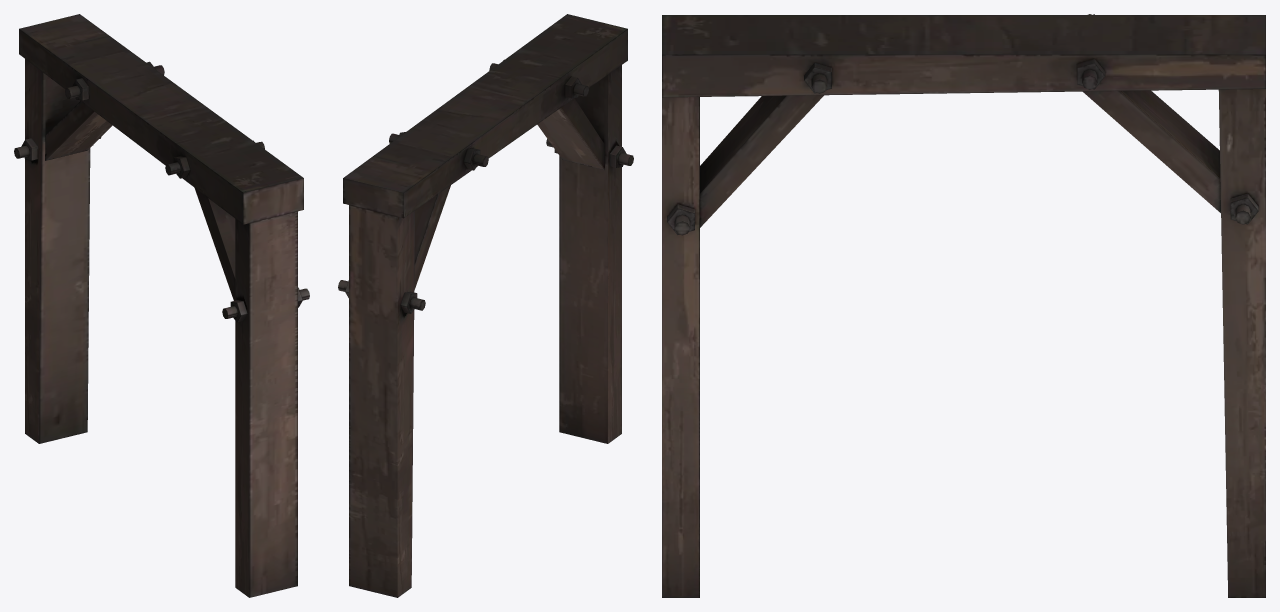
3 views of the same model, side by side, from view 1: azimuth 30°, elevation 25°; view 2: azimuth 150°, elevation 25°; view 3: azimuth 270°, elevation 25° (orthographic). The views are drawn at different scales.
Parts seen in each view (by area): view 1: body0_model0_lod0_mesh0; view 2: body0_model0_lod0_mesh0; view 3: body0_model0_lod0_mesh0.
Part boxes in pixels (x1,y1,x2,y2): body0_model0_lod0_mesh0: (14,14,309,597); body0_model0_lod0_mesh0: (338,14,633,597); body0_model0_lod0_mesh0: (662,14,1265,597).
Bounding box in the file's own units: 31 × 128 × 128.
1 material, 1 textured.
